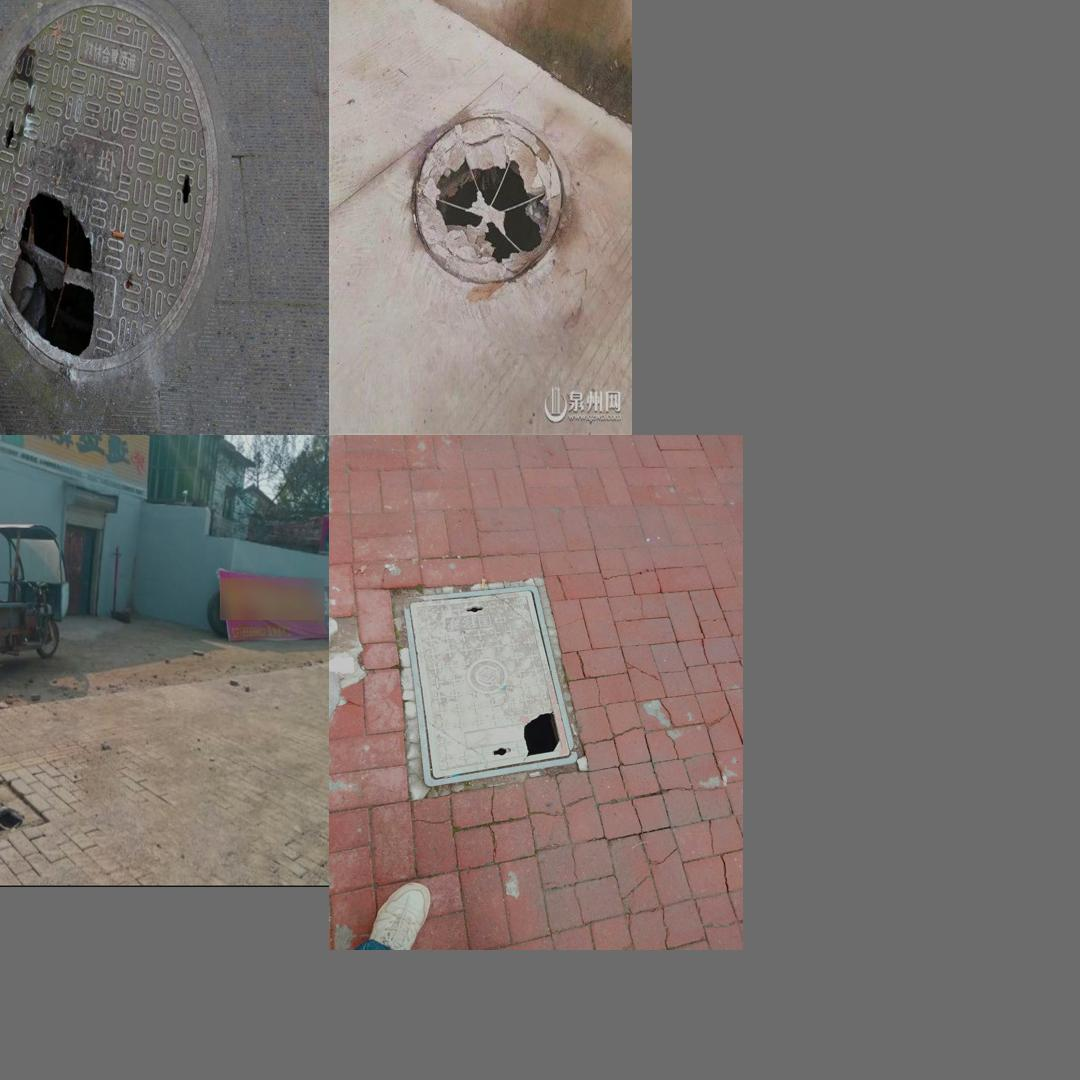broke: (0, 0, 218, 373), (400, 97, 581, 300), (401, 585, 578, 786), (0, 778, 49, 881)
